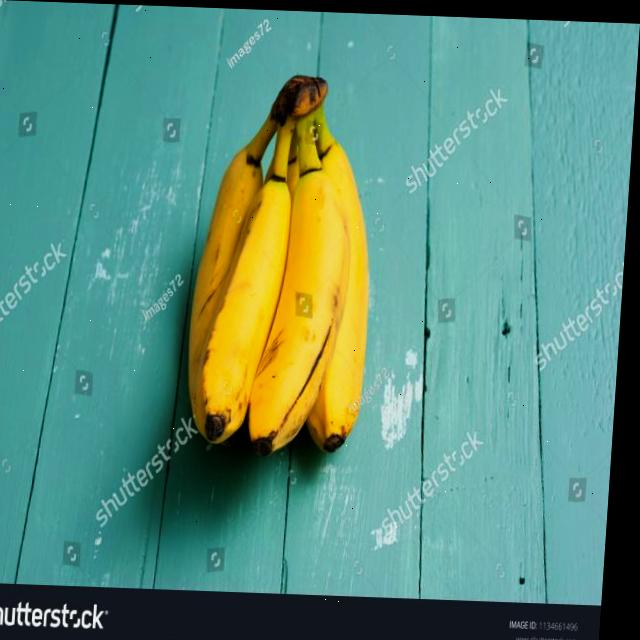banana: (177, 67, 389, 470)
